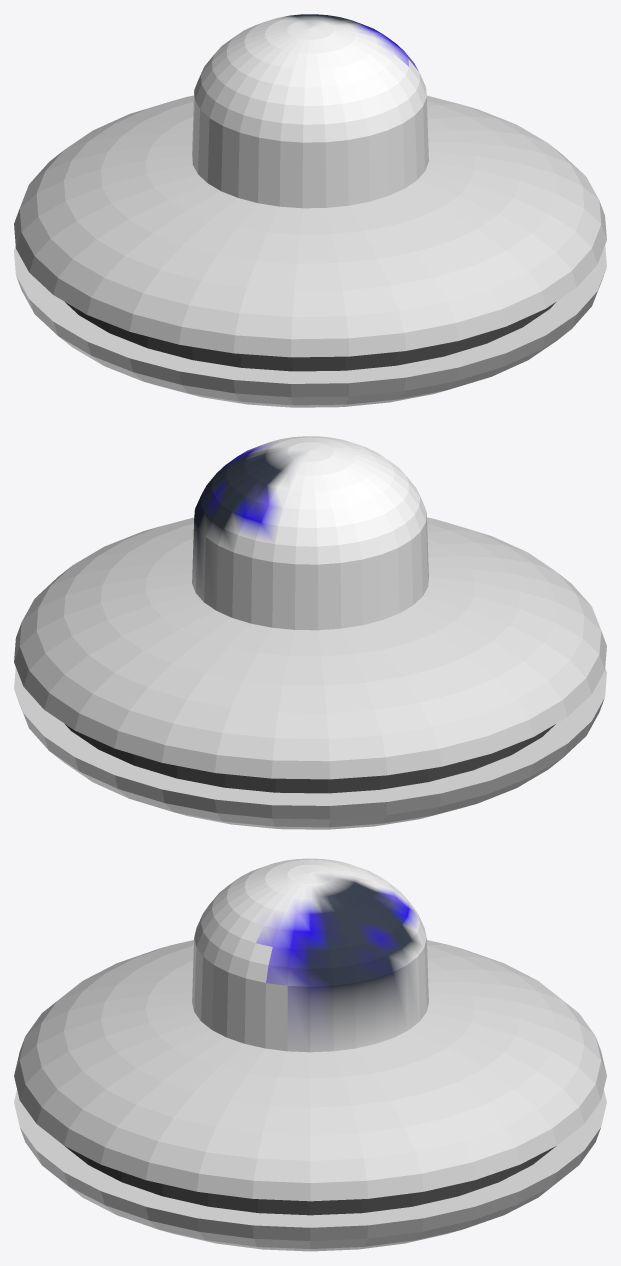
The model's file is ufo.fbx.
The picture shows the model from 3 angles, top to bottom: view 1: azimuth 30°, elevation 25°; view 2: azimuth 150°, elevation 25°; view 3: azimuth 270°, elevation 25°; orthographic projection.
Visible parts, largest first — view 1: Sphere, Sphere.002, Sphere.001, Cylinder; view 2: Sphere, Sphere.002, Sphere.001, Cylinder; view 3: Sphere, Sphere.002, Sphere.001, Cylinder.
Boxes of the visible parts, x1,y1,x2,y2 form: Sphere: [14, 95, 606, 357]; Sphere.002: [192, 14, 428, 208]; Sphere.001: [14, 245, 606, 407]; Cylinder: [65, 302, 555, 371]; Sphere: [14, 517, 606, 779]; Sphere.002: [192, 436, 428, 630]; Sphere.001: [14, 667, 606, 829]; Cylinder: [65, 724, 555, 793]; Sphere: [14, 940, 606, 1201]; Sphere.002: [192, 858, 428, 1052]; Sphere.001: [14, 1090, 606, 1251]; Cylinder: [65, 1146, 555, 1215].
Size of the model in its own units: 1000 by 578 by 1000.
